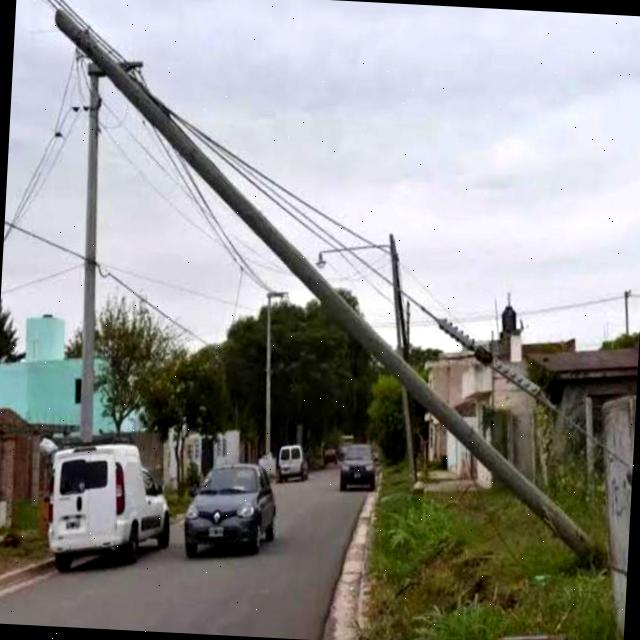Broken Pole: (57, 8, 605, 568)
